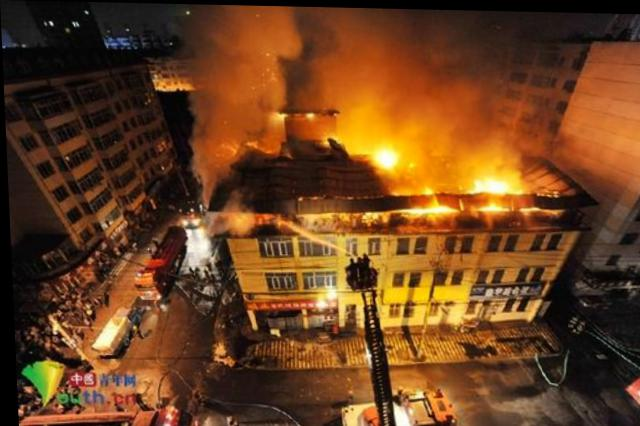fire: (366, 138, 526, 216)
